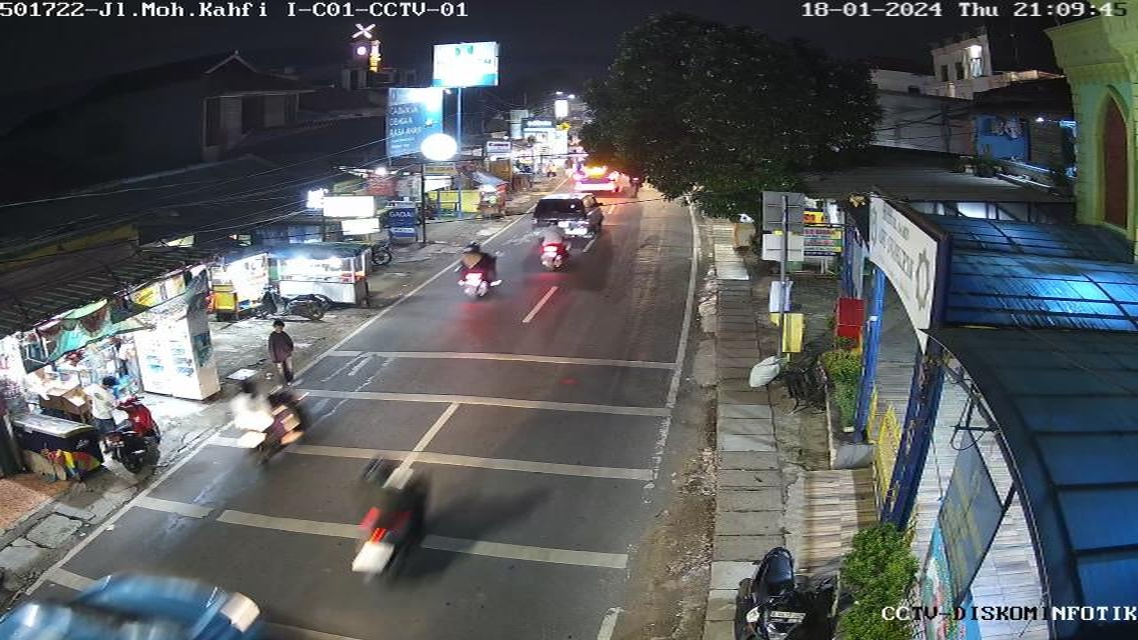Gerobak: (270, 239, 379, 312), (213, 252, 276, 321), (469, 177, 519, 226)
